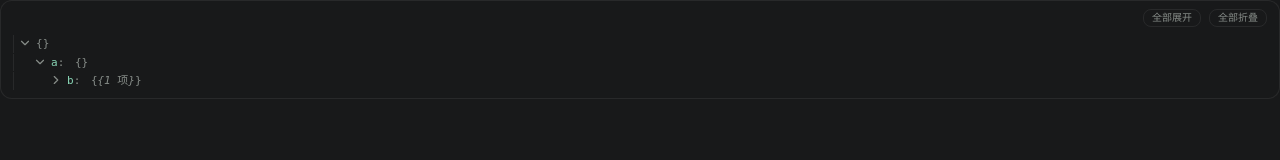
JsonViewer 组件 › 「全部展开」在节点数未超预算时不显示截断提示
This screenshot has width=1280, height=160.
What coordinates should you click on to do the following:
click the button "全部展开"
I would click on:
 (1172, 18)
Its box is [1143,9,1201,27].
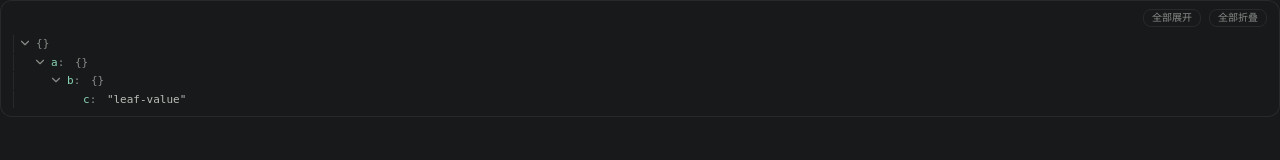
Expected: the text "\"leaf-value\"" is shown, [107,91,186,108]
